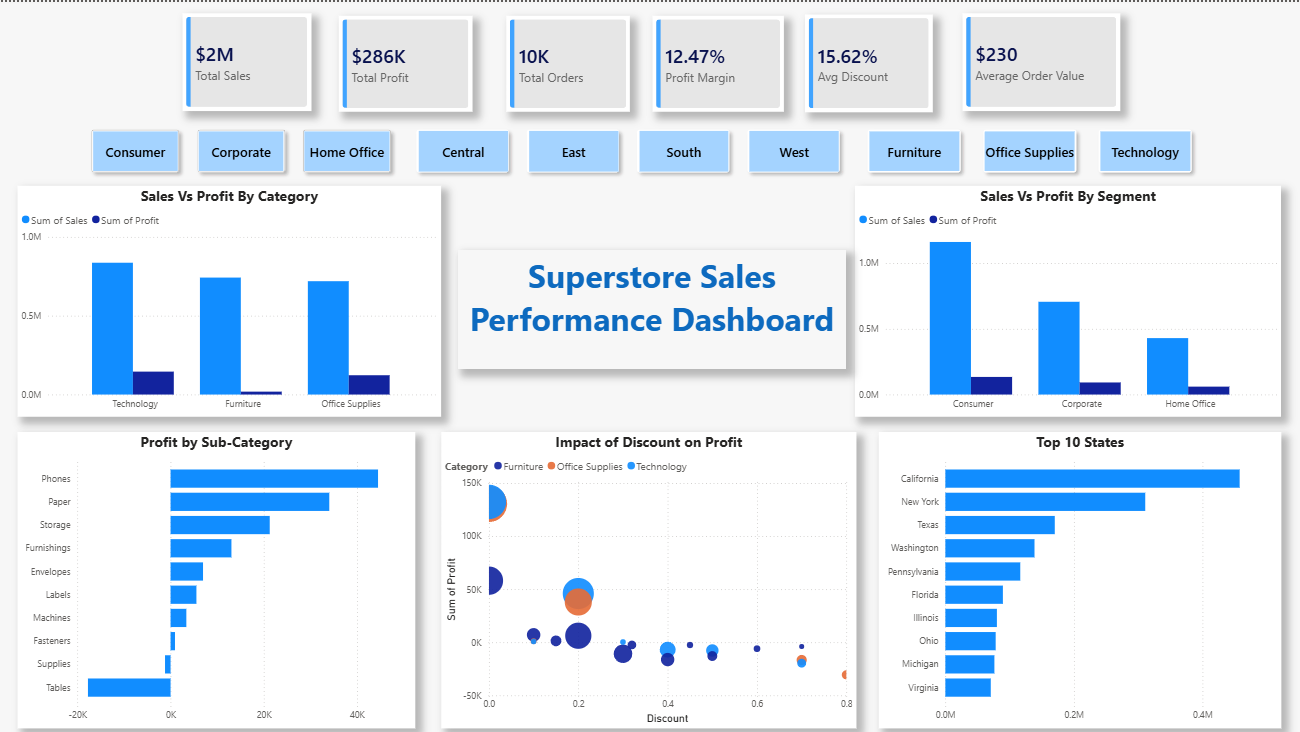

The dashboard page shown, as its layout file describes it:
{"tool":"powerbi","page":{"name":"Page 1","canvas":[1740,980],"ordinal":0},"visuals":[{"type":"cardVisual","fields":{"Data":["SuperStore.Total Sales"]},"box":[243.3,15,171.7,130],"z":0},{"type":"cardVisual","fields":{"Data":["SuperStore.Total Profit"]},"box":[451.7,18.3,178.3,128.3],"z":1000},{"type":"cardVisual","fields":{"Data":["SuperStore.Totral Orders"]},"box":[675,18.3,165,128.3],"z":2000},{"type":"cardVisual","fields":{"Data":["SuperStore.Profit Margin"]},"box":[870,18.3,175,128.3],"z":3000},{"type":"clusteredColumnChart","title":"Sales Vs Profit By Category ","fields":{"Category":["SuperStore.Category"],"Y":["Sum(SuperStore.Sales)","Sum(SuperStore.Profit)"]},"box":[23.3,245,565,308.3],"z":4000},{"type":"cardVisual","fields":{"Data":["SuperStore.Avg Discount"]},"box":[1073.3,16.7,170,130],"z":5000},{"type":"cardVisual","fields":{"Data":["SuperStore.Average Order Value"]},"box":[1283.3,15,210,130],"z":6000},{"type":"advancedSlicerVisual","fields":{"Values":["SuperStore.Segment"]},"box":[105,153.3,433.3,91.7],"z":7000},{"type":"advancedSlicerVisual","fields":{"Values":["SuperStore.Category"]},"box":[1140,153.3,466.7,91.7],"z":8000},{"type":"advancedSlicerVisual","fields":{"Values":["SuperStore.Region"]},"box":[538.3,153.3,601.7,91.7],"z":9000},{"type":"clusteredColumnChart","title":"Sales Vs Profit  By Segment","fields":{"Y":["Sum(SuperStore.Sales)","Sum(SuperStore.Profit)"],"Category":["SuperStore.Segment"]},"box":[1140,245,568.3,308.3],"z":10000},{"type":"clusteredBarChart","title":"Profit by Sub-Category","fields":{"Category":["SuperStore.Sub-Category"],"Y":["Sum(SuperStore.Profit)"]},"box":[23.3,573.3,530,395],"z":11000},{"type":"scatterChart","title":"Impact of Discount on Profit","fields":{"X":["SuperStore.Discount"],"Size":["Sum(SuperStore.Sales)"],"Series":["SuperStore.Category"],"Y":["Sum(SuperStore.Profit)"]},"box":[588.3,573.3,553.3,395],"z":12000},{"type":"barChart","title":"Top 10 States","fields":{"Y":["Sum(SuperStore.Sales)"],"Category":["SuperStore.State"]},"box":[1171.7,573.3,536.7,395],"z":13000},{"type":"textbox","box":[610,330,518.3,160],"z":13001}]}

Visuals, with their boxes in screenshot pixels (x1, y1, x2, y2), scaled from the page's 1740x980 canvas onto the 1300x732 screenshot:
cardVisual - SuperStore.Total Sales: select_region(182, 11, 310, 108)
cardVisual - SuperStore.Total Profit: select_region(337, 14, 471, 110)
cardVisual - SuperStore.Totral Orders: select_region(504, 14, 628, 110)
cardVisual - SuperStore.Profit Margin: select_region(650, 14, 781, 110)
"Sales Vs Profit By Category " clusteredColumnChart: select_region(17, 183, 440, 413)
cardVisual - SuperStore.Avg Discount: select_region(802, 12, 929, 110)
cardVisual - SuperStore.Average Order Value: select_region(959, 11, 1116, 108)
advancedSlicerVisual - SuperStore.Segment: select_region(78, 115, 402, 183)
advancedSlicerVisual - SuperStore.Category: select_region(852, 115, 1200, 183)
advancedSlicerVisual - SuperStore.Region: select_region(402, 115, 852, 183)
"Sales Vs Profit  By Segment" clusteredColumnChart: select_region(852, 183, 1276, 413)
"Profit by Sub-Category" clusteredBarChart: select_region(17, 428, 413, 723)
"Impact of Discount on Profit" scatterChart: select_region(440, 428, 853, 723)
"Top 10 States" barChart: select_region(875, 428, 1276, 723)
textbox: select_region(456, 246, 843, 366)
